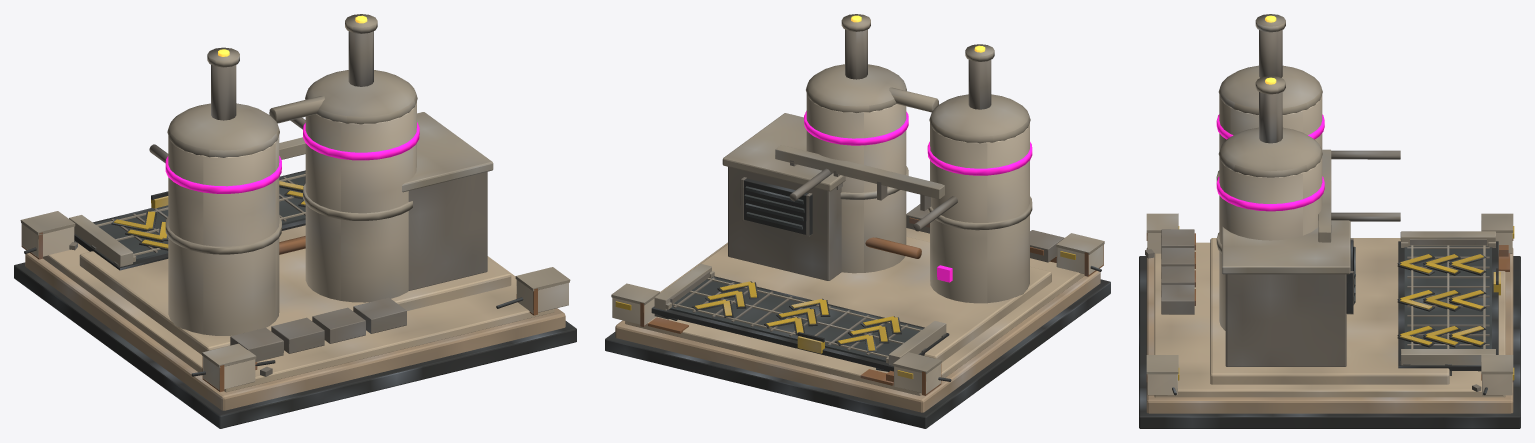
The model's file is refinery.glb.
The picture shows the model from 3 angles, left to right: view 1: azimuth 30°, elevation 25°; view 2: azimuth 150°, elevation 25°; view 3: azimuth 270°, elevation 25°; orthographic projection. The views are drawn at different scales.
Parts seen in each view (by area): view 1: Sandwar3D; view 2: Sandwar3D; view 3: Sandwar3D.
Part boxes in pixels (box(x1,y1,x2,y2)): Sandwar3D: box(14, 14, 576, 428); Sandwar3D: box(605, 14, 1110, 428); Sandwar3D: box(1139, 14, 1520, 428).
Bounding box in the file's own units: 3.1 × 2.44 × 2.96.
12 materials, 11 textured.
